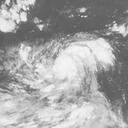cyclone: (49, 44, 94, 83)
